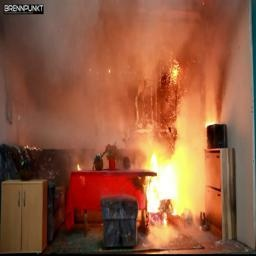fire: (137, 136, 203, 221)
